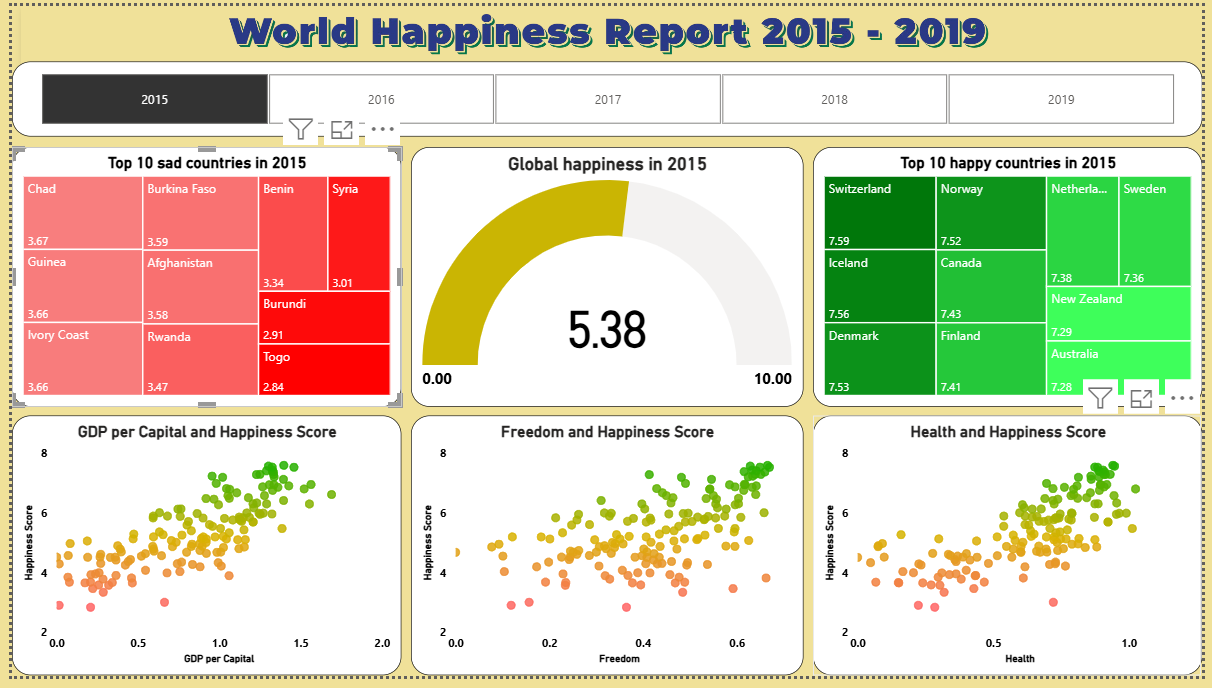

What the dashboard file says about the page in this screenshot:
{"tool":"powerbi","page":{"name":"Page 1","canvas":[1280,720],"ordinal":0},"visuals":[{"type":"textbox","box":[10.1,0,1269.9,75.6],"z":0},{"type":"textbox","box":[413.2,100.8,838.2,149.5],"z":1000},{"type":"slicer","fields":{"Values":["Append1.Year"]},"box":[0,60.2,1279.8,80.8],"z":1001},{"type":"gauge","fields":{"Y":["Avg(Append1.Happiness Score)"]},"box":[429.1,151.3,421.7,279.2],"z":1002},{"type":"treemap","fields":{"Group":["Append1.Country"],"Values":["Avg(Append1.Happiness Score)"]},"box":[861.1,151.3,418.8,279.2],"z":1003},{"type":"treemap","fields":{"Group":["Append1.Country"],"Values":["Avg(Append1.Happiness Score)"]},"box":[0,151.3,418.8,279.2],"z":1004},{"type":"scatterChart","fields":{"Y":["Append1.Happiness Score"],"X":["Append1.GDP per Capital"]},"box":[0,440.8,418.8,279.2],"z":1005},{"type":"scatterChart","fields":{"Y":["Append1.Happiness Score"],"X":["Append1.Health"]},"box":[861.1,440.8,418.8,279.2],"z":1006},{"type":"scatterChart","fields":{"Y":["Append1.Happiness Score"],"X":["Append1.Freedom"]},"box":[429.1,440.8,421.7,279.2],"z":1007},{"type":"image","box":[221.9,0,837.6,60.2],"z":1009}]}

Visuals, with their boxes in screenshot pixels (x1, y1, x2, y2), scaled from the page's 1280x720 canvas onto the 1212x688 screenshot:
textbox: box(10, 0, 1211, 72)
textbox: box(391, 96, 1185, 239)
slicer - Append1.Year: box(0, 58, 1211, 135)
gauge - Avg(Append1.Happiness Score): box(406, 145, 806, 411)
treemap - Append1.Country x Avg(Append1.Happiness Score): box(815, 145, 1211, 411)
treemap - Append1.Country x Avg(Append1.Happiness Score): box(0, 145, 397, 411)
scatterChart - Append1.Happiness Score x Append1.GDP per Capital: box(0, 421, 397, 687)
scatterChart - Append1.Happiness Score x Append1.Health: box(815, 421, 1211, 687)
scatterChart - Append1.Happiness Score x Append1.Freedom: box(406, 421, 806, 687)
image: box(210, 0, 1003, 58)
